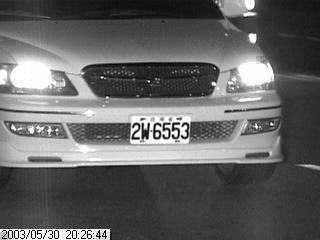plate: (129, 113, 193, 146)
